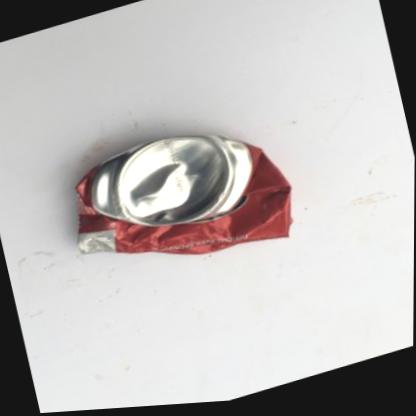Metal: (75, 137, 292, 257)
